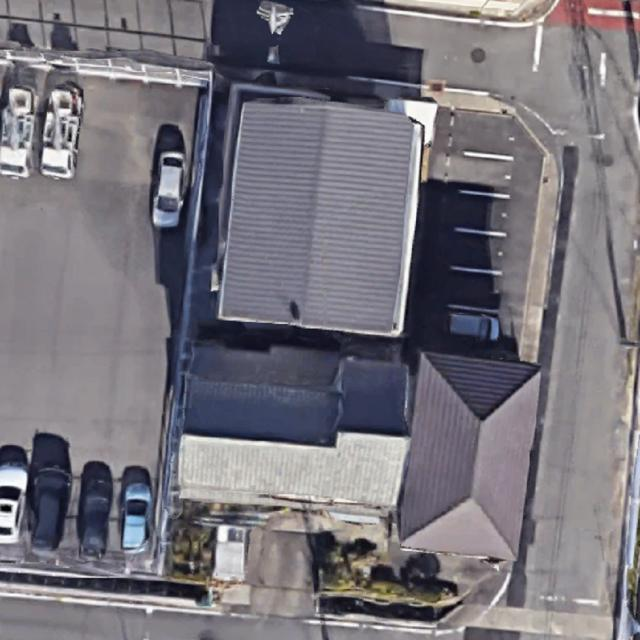Batiment: (220, 103, 421, 335), (179, 343, 409, 509), (400, 352, 540, 558)
